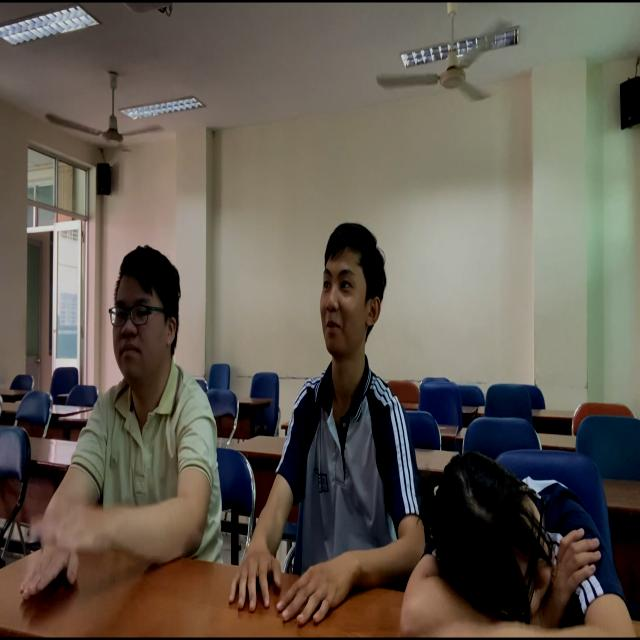sleep: (411, 447, 640, 640)
